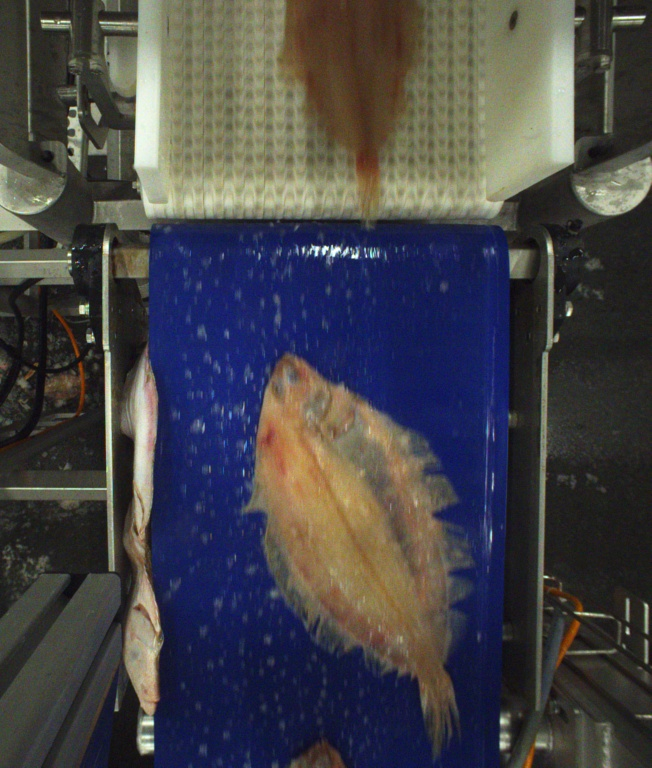WIT: (257, 352, 479, 747)
